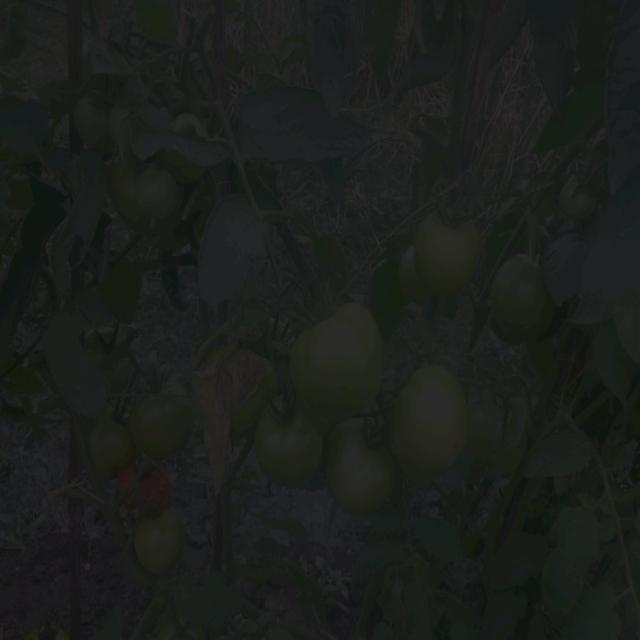tomato: (297, 302, 386, 418), (393, 364, 471, 484), (254, 395, 331, 485), (328, 420, 390, 514), (418, 208, 483, 290), (227, 346, 279, 442), (138, 388, 202, 460), (116, 171, 186, 235), (488, 259, 551, 329), (128, 518, 187, 582), (94, 322, 144, 391), (117, 468, 183, 515), (88, 413, 135, 476), (401, 250, 441, 308), (560, 173, 598, 224), (75, 94, 107, 150), (165, 149, 205, 186), (175, 114, 210, 139), (109, 104, 128, 146)
